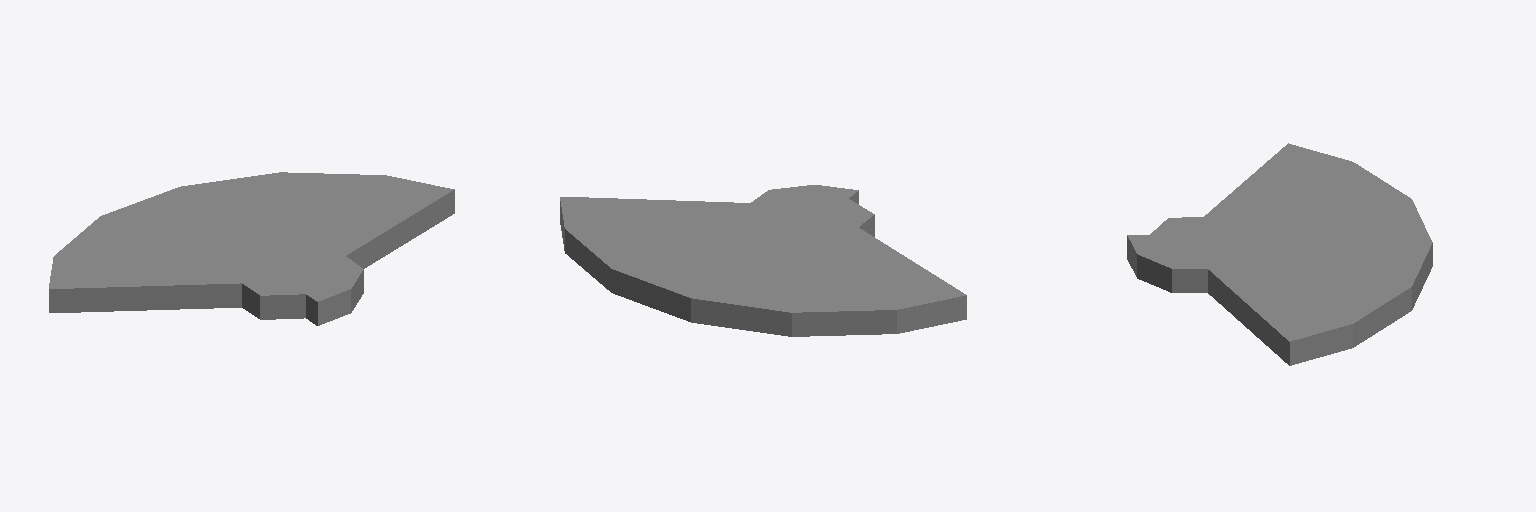
Rendered from cpz_obj_pipelinecapA_brk_012.obj.
3 renders of one model, left to right at view 1: azimuth 30°, elevation 25°; view 2: azimuth 150°, elevation 25°; view 3: azimuth 270°, elevation 25°, orthographic.
Parts seen in each view (by area): view 1: cpz_metal_tn1_footholdA_floor, ccp_metal_yy_gray_Cmn_dpn; view 2: cpz_metal_tn1_footholdA_floor, ccp_metal_yy_gray_Cmn_dpn; view 3: cpz_metal_tn1_footholdA_floor, ccp_metal_yy_gray_Cmn_dpn.
Boxes of the visible parts, box(x1,y1,x2,y2) form: cpz_metal_tn1_footholdA_floor: box(49, 172, 454, 301); ccp_metal_yy_gray_Cmn_dpn: box(49, 190, 454, 325); cpz_metal_tn1_footholdA_floor: box(560, 185, 965, 312); ccp_metal_yy_gray_Cmn_dpn: box(560, 191, 966, 336); cpz_metal_tn1_footholdA_floor: box(1127, 143, 1432, 341); ccp_metal_yy_gray_Cmn_dpn: box(1127, 236, 1432, 365).
Size of the model in its own units: 31.57 by 1.98 by 20.52.